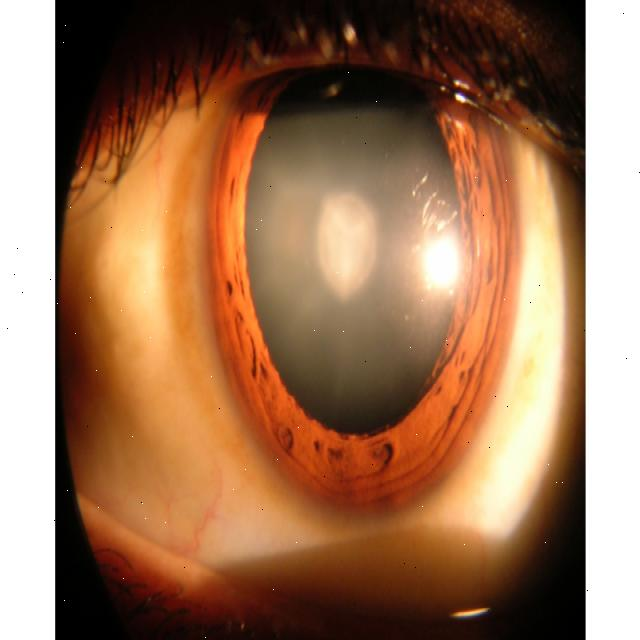Cataract: (213, 0, 519, 512)
